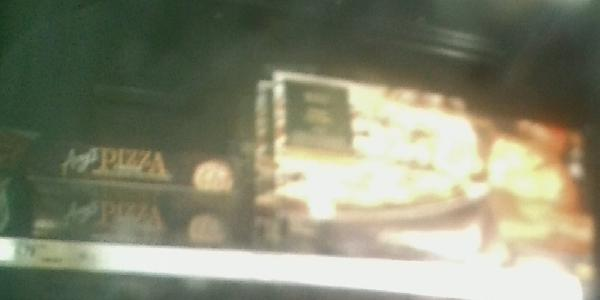pizza1: (277, 67, 486, 265)
pizza2: (23, 137, 238, 196), (29, 191, 248, 247)
